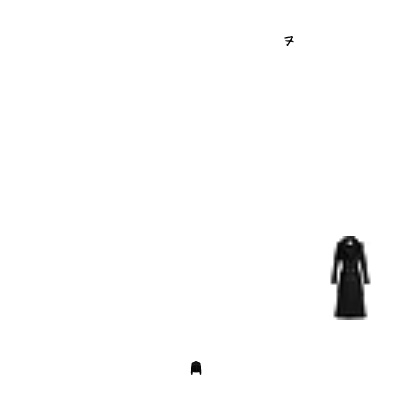7: (282, 33, 296, 47)
Coat: (307, 236, 391, 320), (189, 361, 203, 375)
